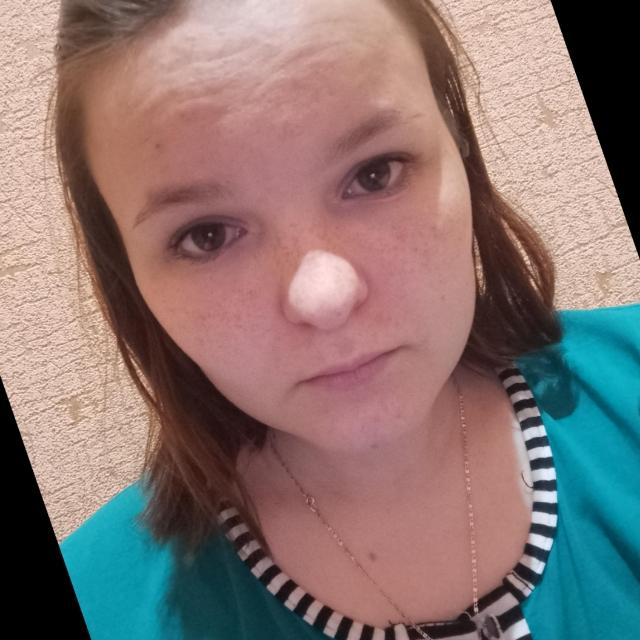Natural: (73, 73, 551, 471)
